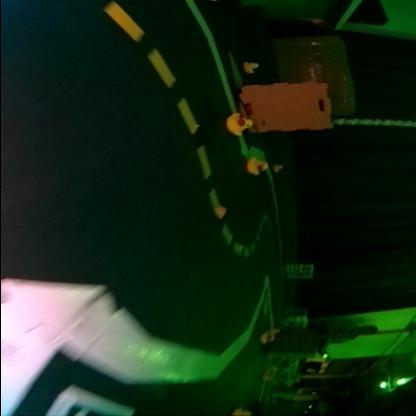Duckie: (226, 112, 252, 134), (247, 156, 268, 174), (244, 61, 258, 72), (233, 407, 251, 415), (262, 332, 274, 341), (272, 328, 280, 334), (274, 165, 282, 170)
QR code: (288, 264, 300, 270)
